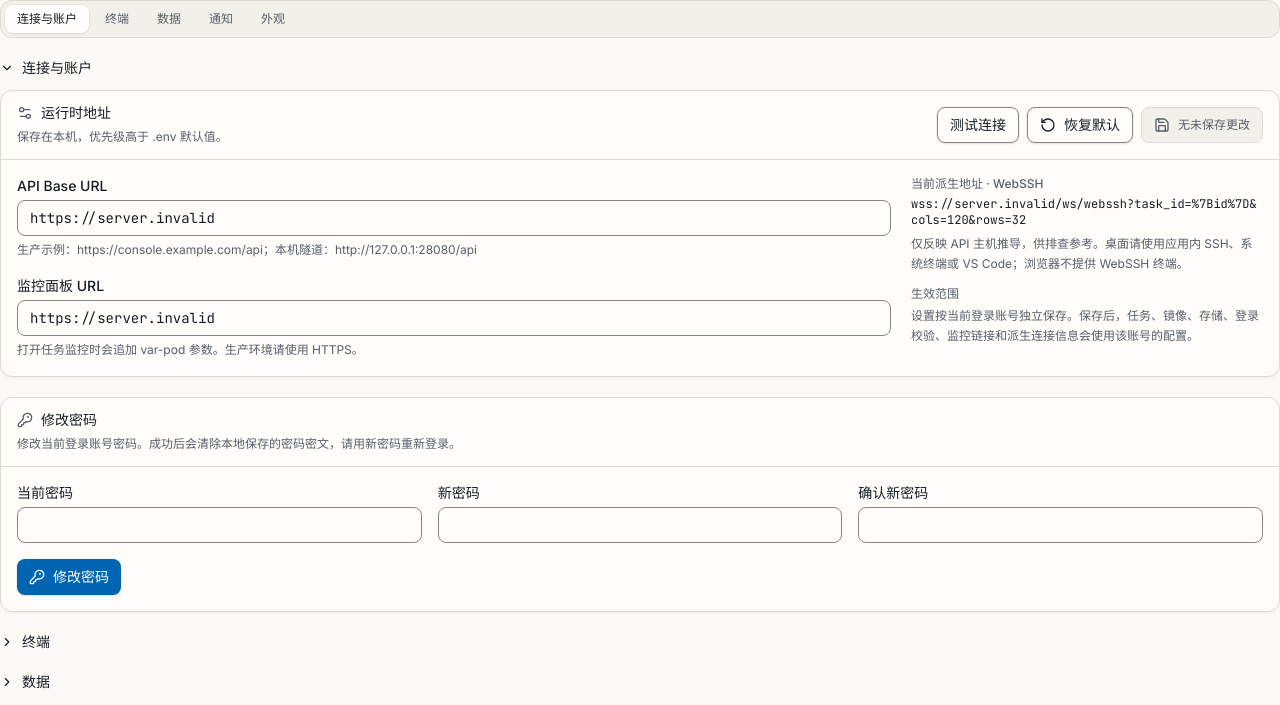
it: SettingsPage › opens a collapsed group from the section index
The width and height of the screenshot is (1280, 705).
Click the 1st button "数据" at (169, 19), box 145,5 -> 193,33
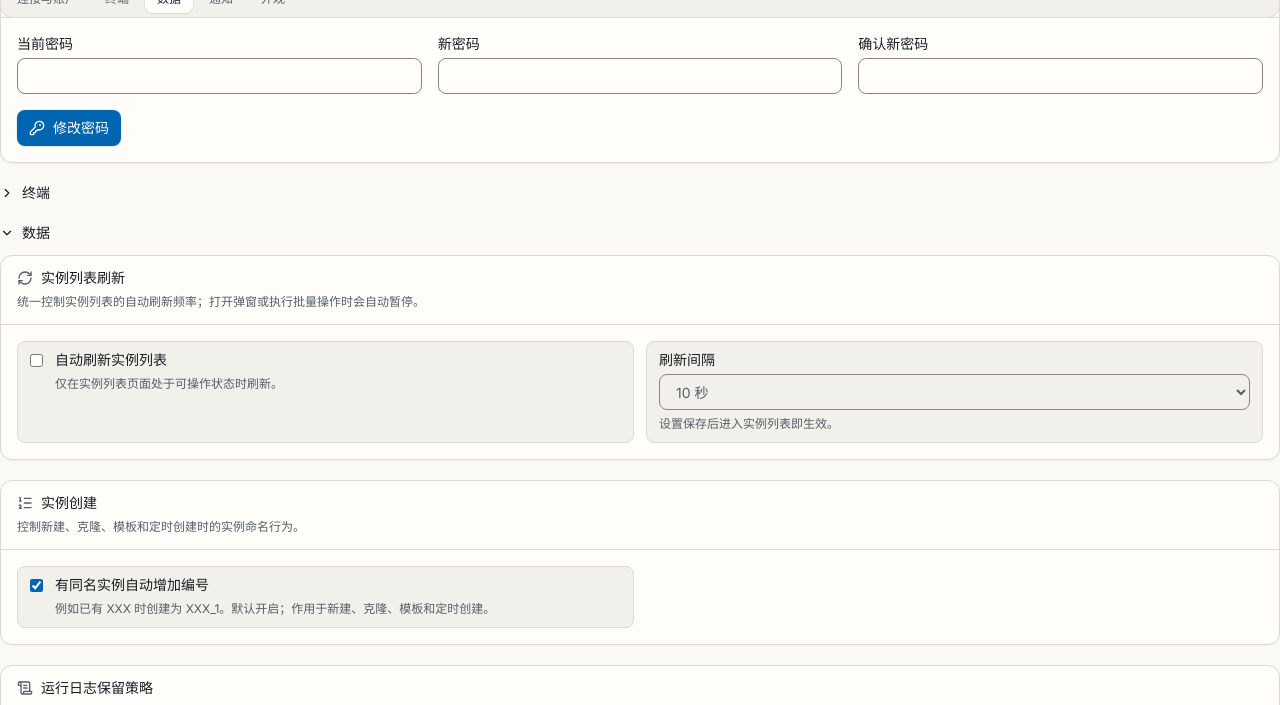
Check: the text "自动刷新实例列表" is shown, box 55,351 -> 167,368
